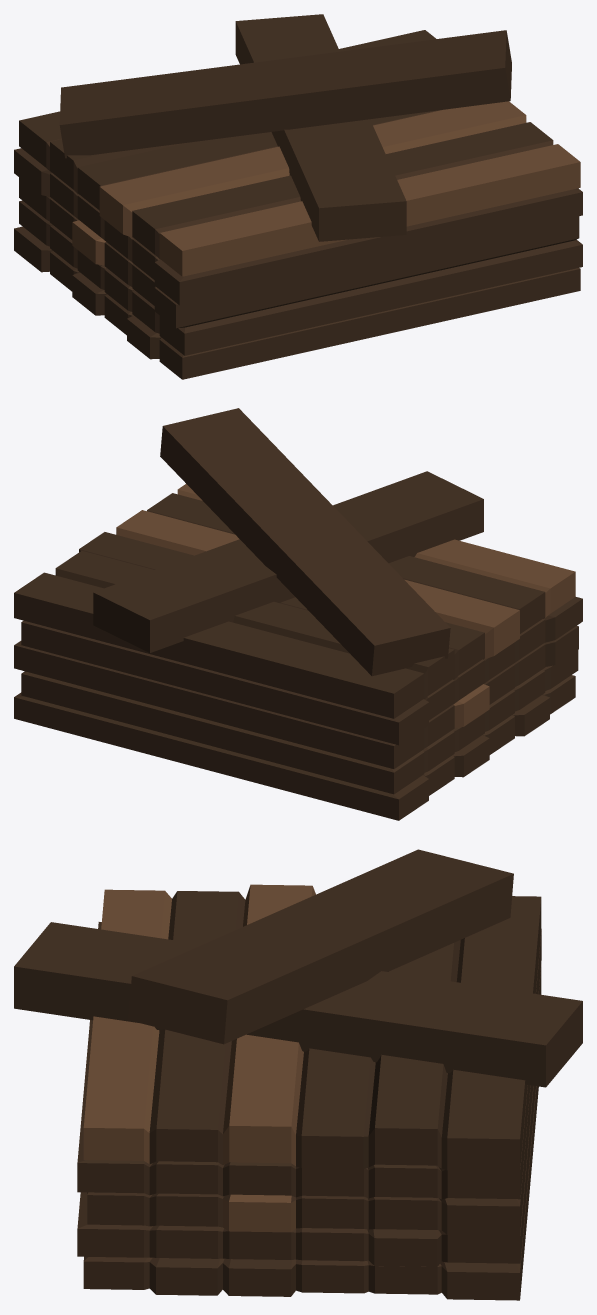
File: wood_1_mat.fbx
The picture shows the model from 3 angles, top to bottom: view 1: azimuth 30°, elevation 25°; view 2: azimuth 150°, elevation 25°; view 3: azimuth 270°, elevation 25°; orthographic projection. The views are drawn at different scales.
Parts seen in each view (by area): view 1: wood_1_mat; view 2: wood_1_mat; view 3: wood_1_mat.
Boxes of the visible parts, x1=… form: wood_1_mat: x1=14, y1=14, x2=582, y2=379; wood_1_mat: x1=14, y1=408, x2=582, y2=820; wood_1_mat: x1=14, y1=849, x2=582, y2=1300.
Size of the model in its own units: 114 by 58.43 by 108.
